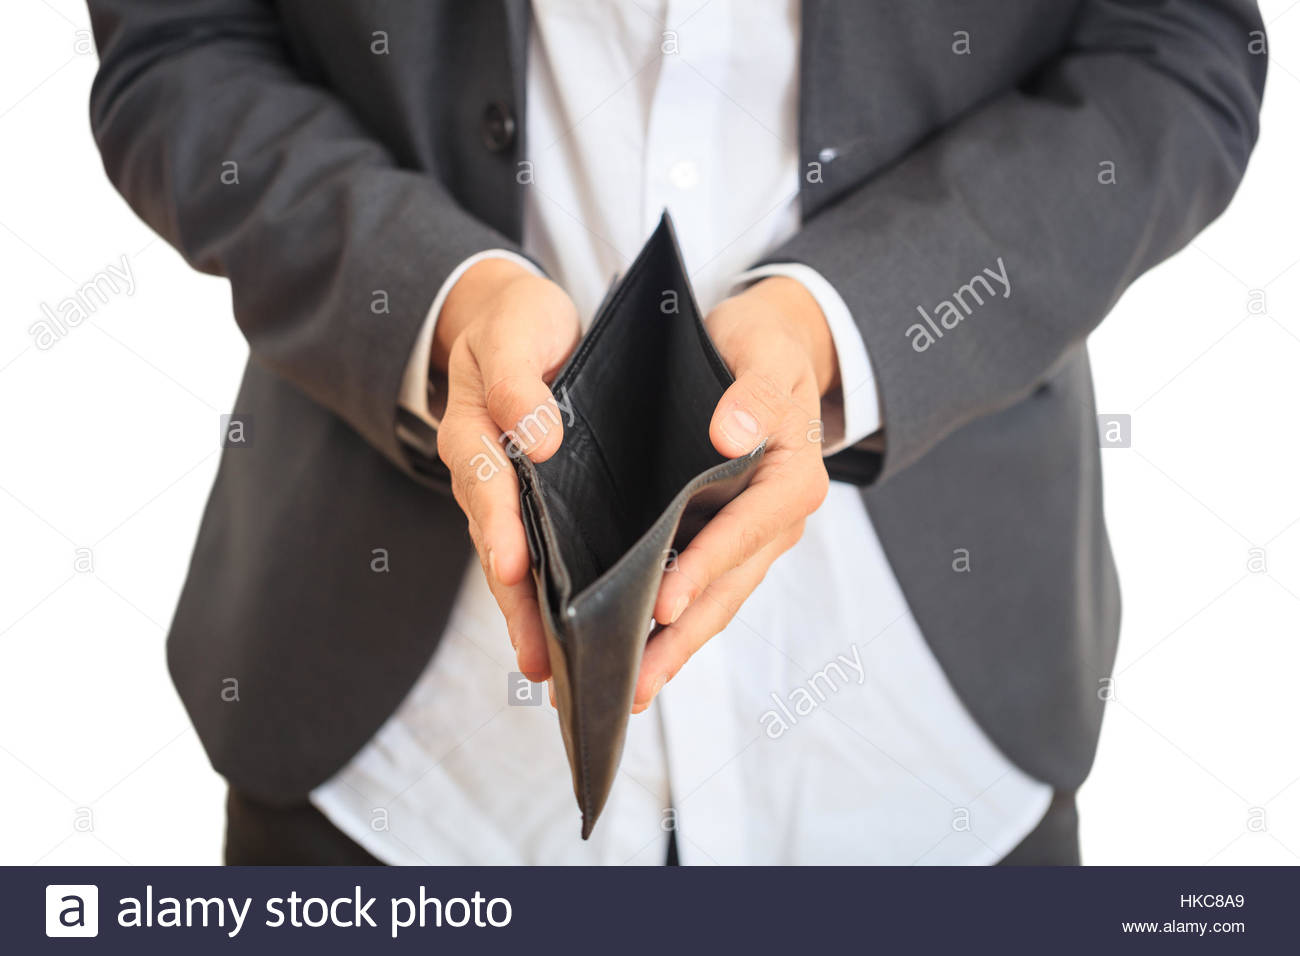monedero: (500, 198, 775, 846)
